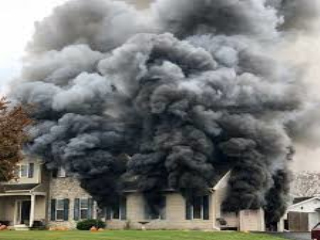smoke: (17, 21, 296, 199)
